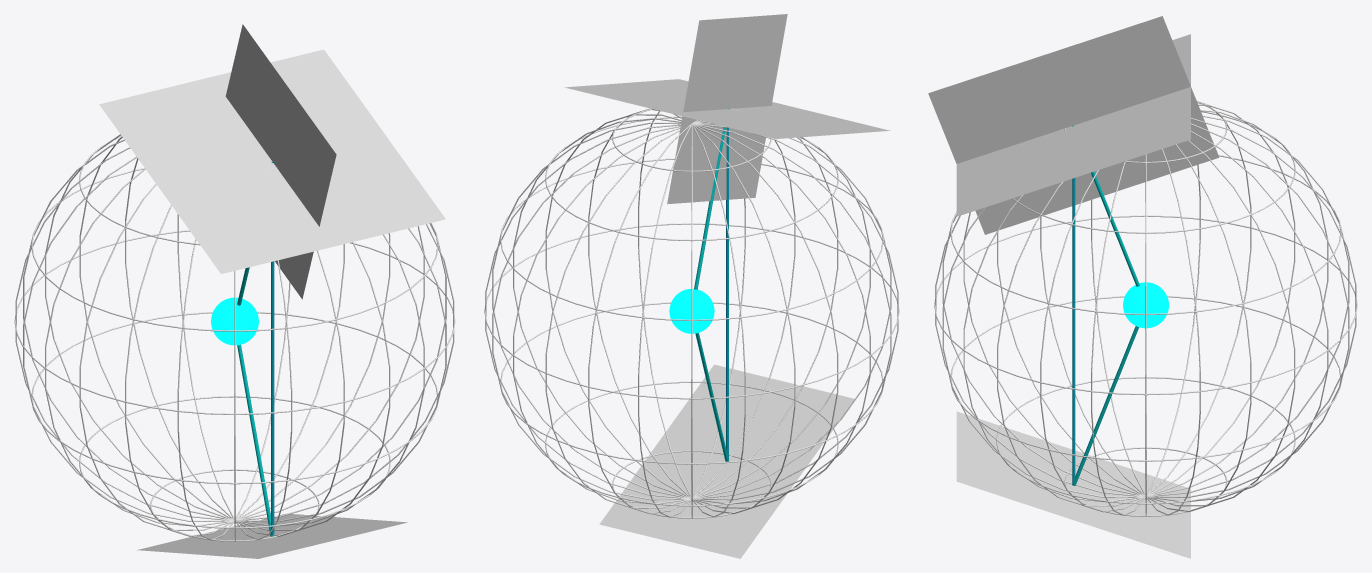
File: Universal_FieldArt_TessarecFold_v3.glb
3 views of the same model, side by side, from view 1: azimuth 30°, elevation 25°; view 2: azimuth 150°, elevation 25°; view 3: azimuth 270°, elevation 25° (orthographic). The views are drawn at different scales.
Visible parts, largest first — view 1: atlas_resonance, glyph, atlas_constants, core_glow, ring_glyph_atlas_constants, strut_atlas_constants_core; view 2: atlas_constants, glyph, atlas_resonance, core_glow, ring_glyph_atlas_constants, strut_atlas_resonance_core, strut_atlas_constants_core; view 3: atlas_fields, atlas_constants, atlas_resonance, core_glow, ring_glyph_atlas_constants, strut_atlas_constants_core, strut_atlas_resonance_core.
Part boxes in pixels (x1,y1,x2,y2): atlas_resonance: (99,49,445,273); glyph: (225,24,336,299); atlas_constants: (137,513,407,558); core_glow: (211,297,258,345); ring_glyph_atlas_constants: (271,162,274,535); strut_atlas_constants_core: (237,344,273,536); atlas_constants: (599,364,854,558); glyph: (667,14,787,204); atlas_resonance: (564,79,890,138); core_glow: (669,289,714,333); ring_glyph_atlas_constants: (726,108,728,458); strut_atlas_resonance_core: (694,127,725,289); strut_atlas_constants_core: (695,333,729,461); atlas_fields: (928,16,1219,234); atlas_constants: (956,411,1190,558); atlas_resonance: (956,34,1190,216); core_glow: (1123,282,1168,328); ring_glyph_atlas_constants: (1072,125,1075,483); strut_atlas_constants_core: (1072,326,1138,485); strut_atlas_resonance_core: (1091,171,1139,286).
Size of the model in its own units: 2.21 by 2.93 by 2.24.
